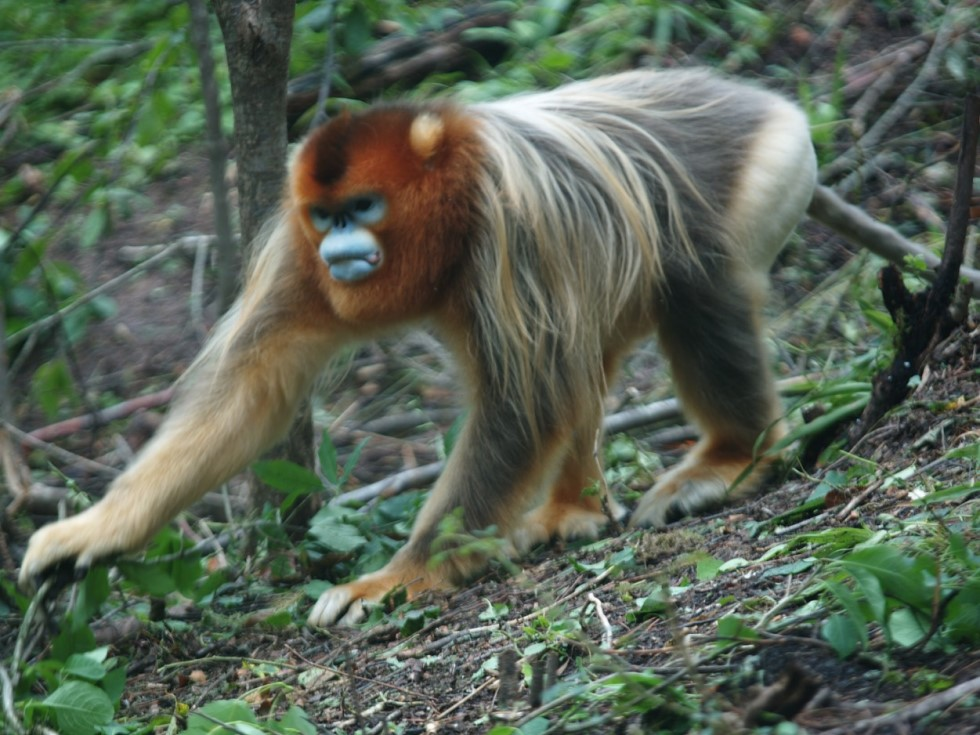GoldenSnub-Nosed: (121, 57, 855, 611)
